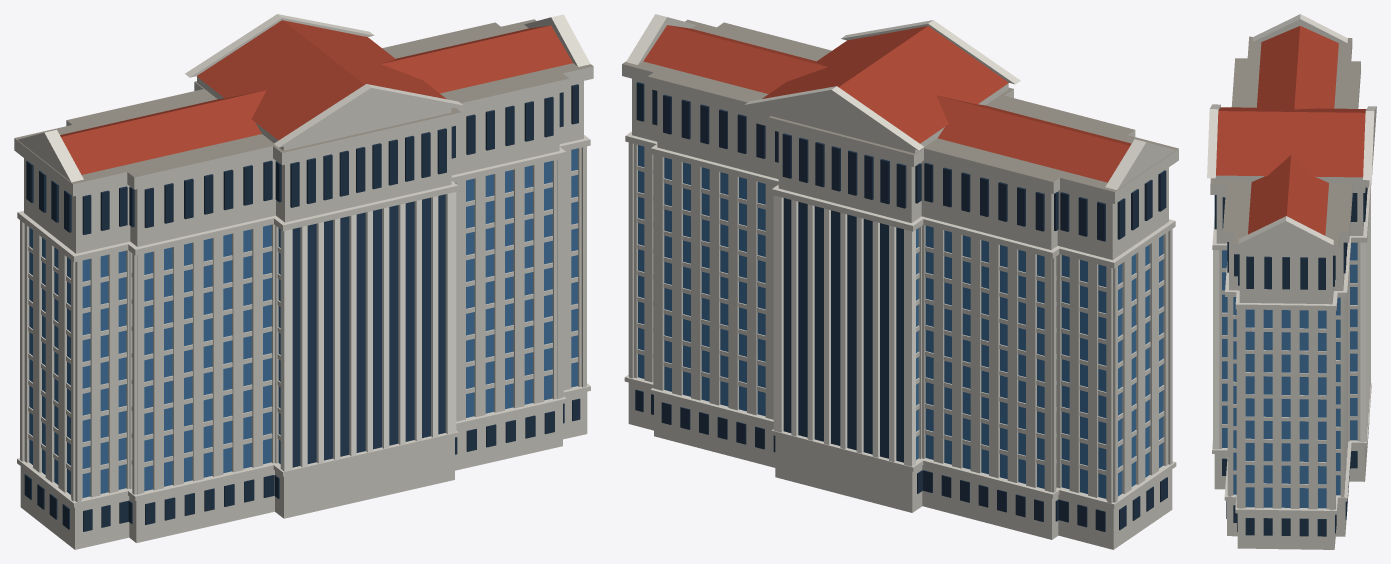
Rendered from caesars_augustus.glb.
The picture shows the model from 3 angles, left to right: view 1: azimuth 30°, elevation 25°; view 2: azimuth 150°, elevation 25°; view 3: azimuth 270°, elevation 25°; orthographic projection. The views are drawn at different scales.
Parts seen in each view (by area): view 1: Tower; view 2: Tower; view 3: Tower.
Boxes of the visible parts, <box> form: Tower: <box>14,14,593,549</box>; Tower: <box>622,14,1178,549</box>; Tower: <box>1207,14,1376,549</box>.
Bounding box in the file's own units: 147 × 113 × 50.43.
